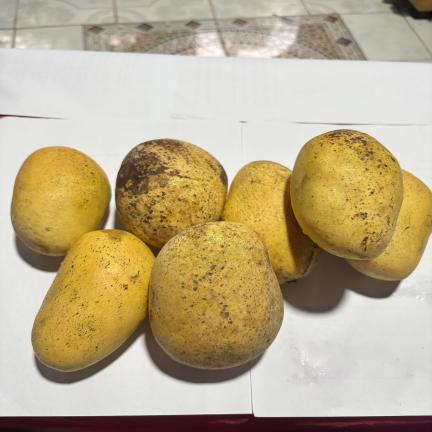mango: (149, 222, 283, 369), (31, 229, 155, 371), (290, 130, 403, 260), (53, 190, 54, 190)
occluded: (31, 229, 155, 371), (115, 139, 228, 248), (221, 161, 321, 284), (11, 146, 111, 256), (344, 170, 432, 281)
